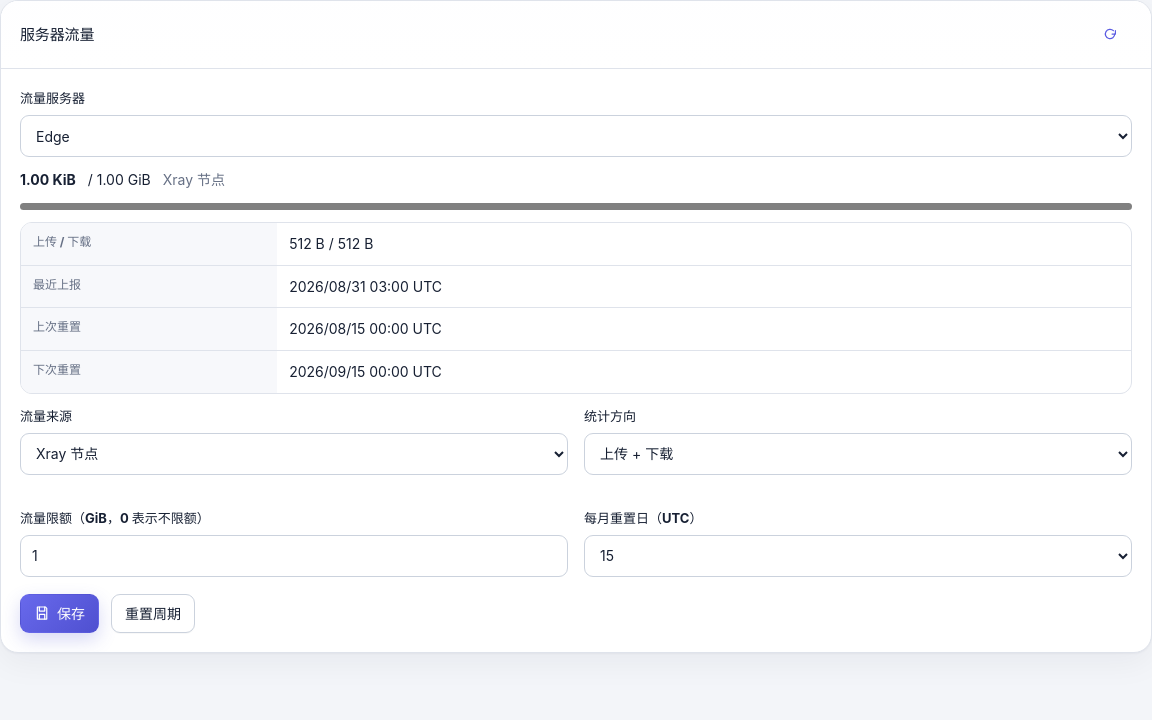
React server traffic settings › polls counters without replacing unsaved quota edits and stops on unmount
Replace the text in the number field named "流量限额（GiB，0 表示不限额）" with "3". click: [294, 556]
box: [20,535,568,577]
Wait 10000 ms
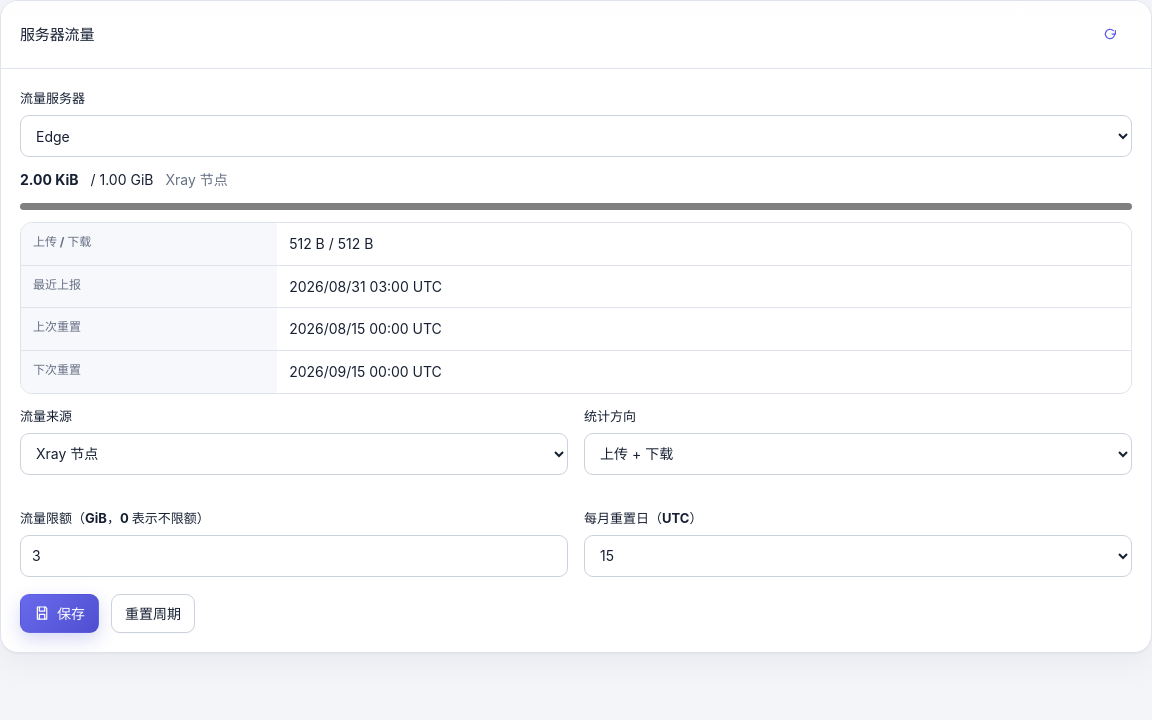
Expected: the text with test id "server-traffic-used" reads "2.00 KiB", [20,171,78,188]
